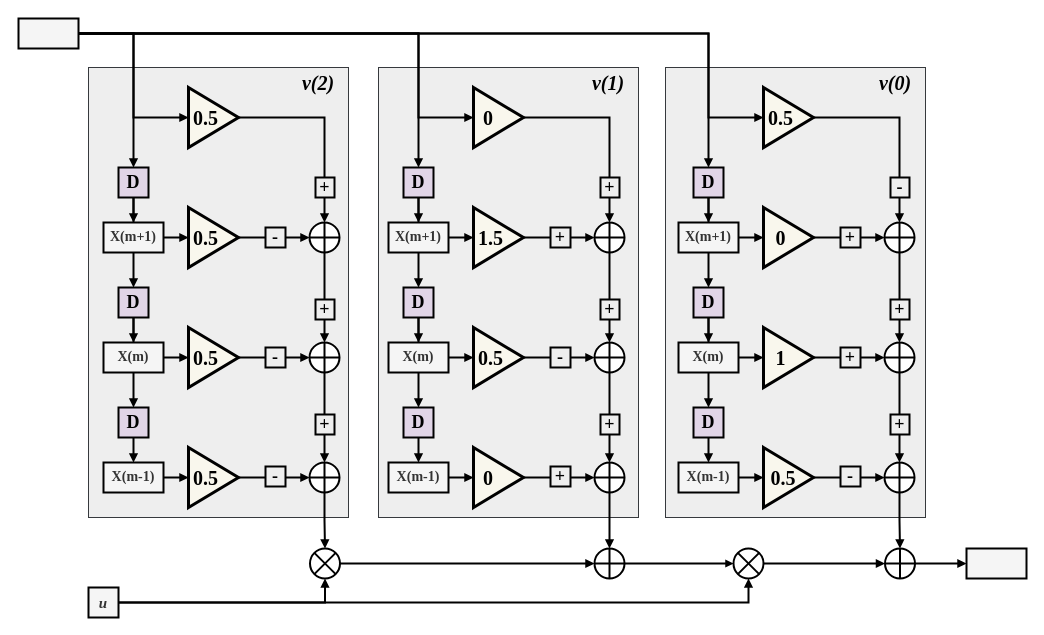
The diagram is 1044 pixels wide and 635 high, and some of its shapes have lost their labels. The shapes that lost their labels are listed below. From the top down, each one's centre as x and y in pixels, then its label:
pixel 48 33: X(m+2)
pixel 996 563: X(m+u)
